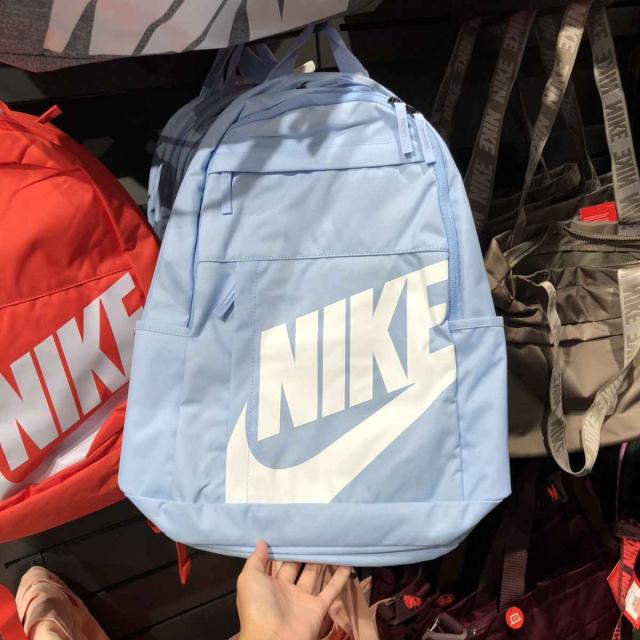Handbag: (116, 74, 519, 568)
